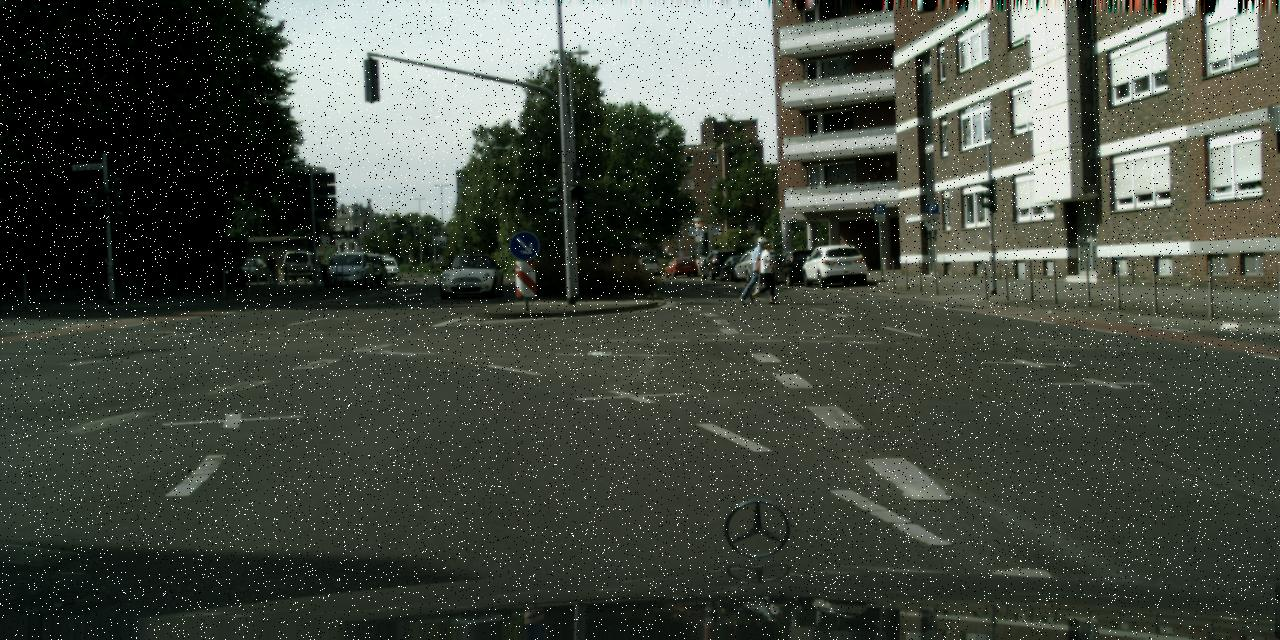ped: (747, 236, 774, 302), (752, 240, 776, 301), (266, 253, 278, 283)
